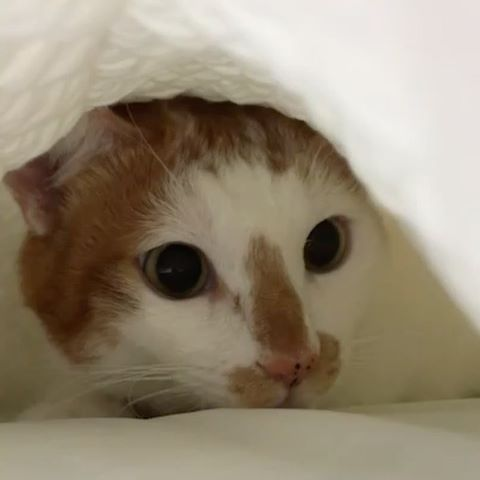cat: (14, 49, 382, 417)
